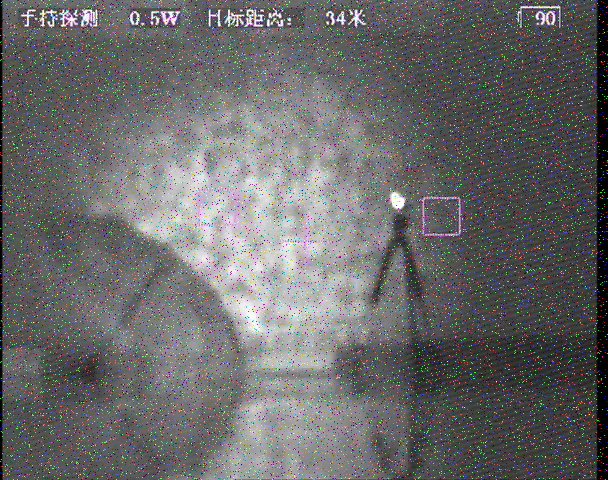my: (389, 192, 407, 210)
